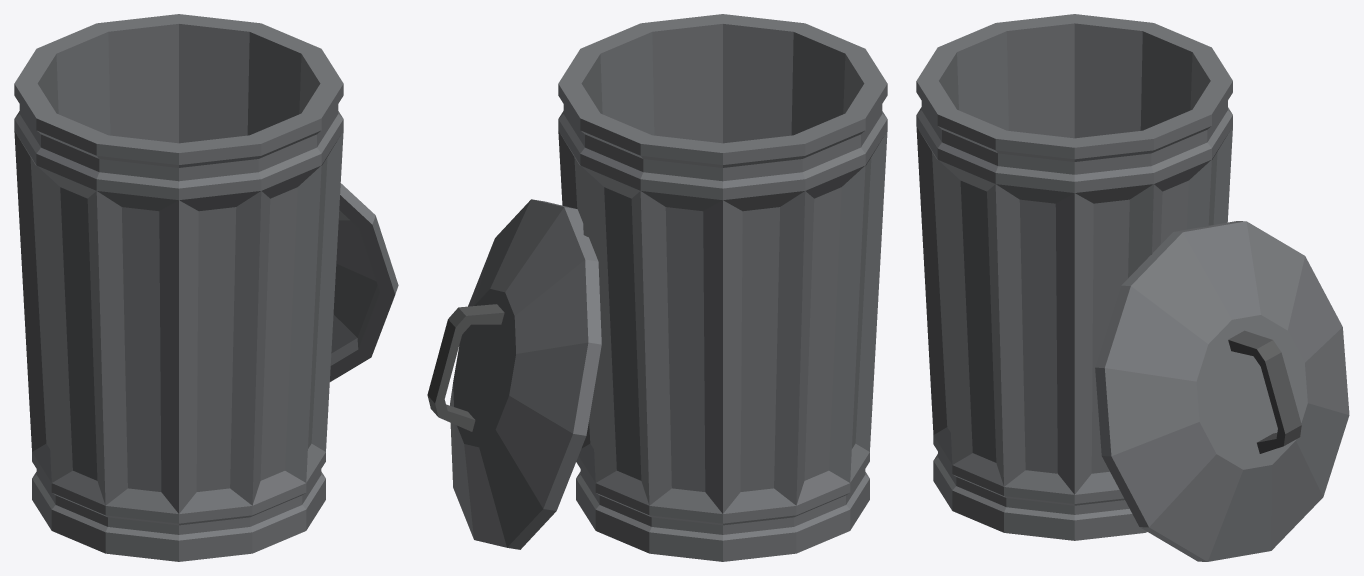
Rendered from SM_Prop_TrashCan_01.obj.
The picture shows the model from 3 angles, left to right: view 1: azimuth 30°, elevation 25°; view 2: azimuth 150°, elevation 25°; view 3: azimuth 270°, elevation 25°; orthographic projection. The views are drawn at different scales.
Parts seen in each view (by area): view 1: SM_Prop_TrashCan_01_0; view 2: SM_Prop_TrashCan_01_0; view 3: SM_Prop_TrashCan_01_0.
Boxes of the visible parts, bbox=[...] form: SM_Prop_TrashCan_01_0: bbox=[14, 14, 398, 561]; SM_Prop_TrashCan_01_0: bbox=[427, 14, 887, 561]; SM_Prop_TrashCan_01_0: bbox=[916, 14, 1349, 561].
Size of the model in its own units: 0.7127 by 0.7522 by 0.7291.
Materials: 1 (1 with a texture image).
